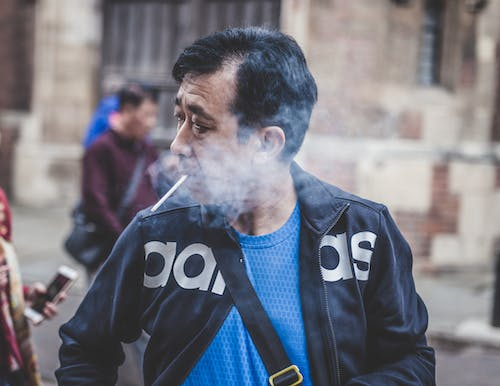cigarette: (146, 173, 188, 216)
